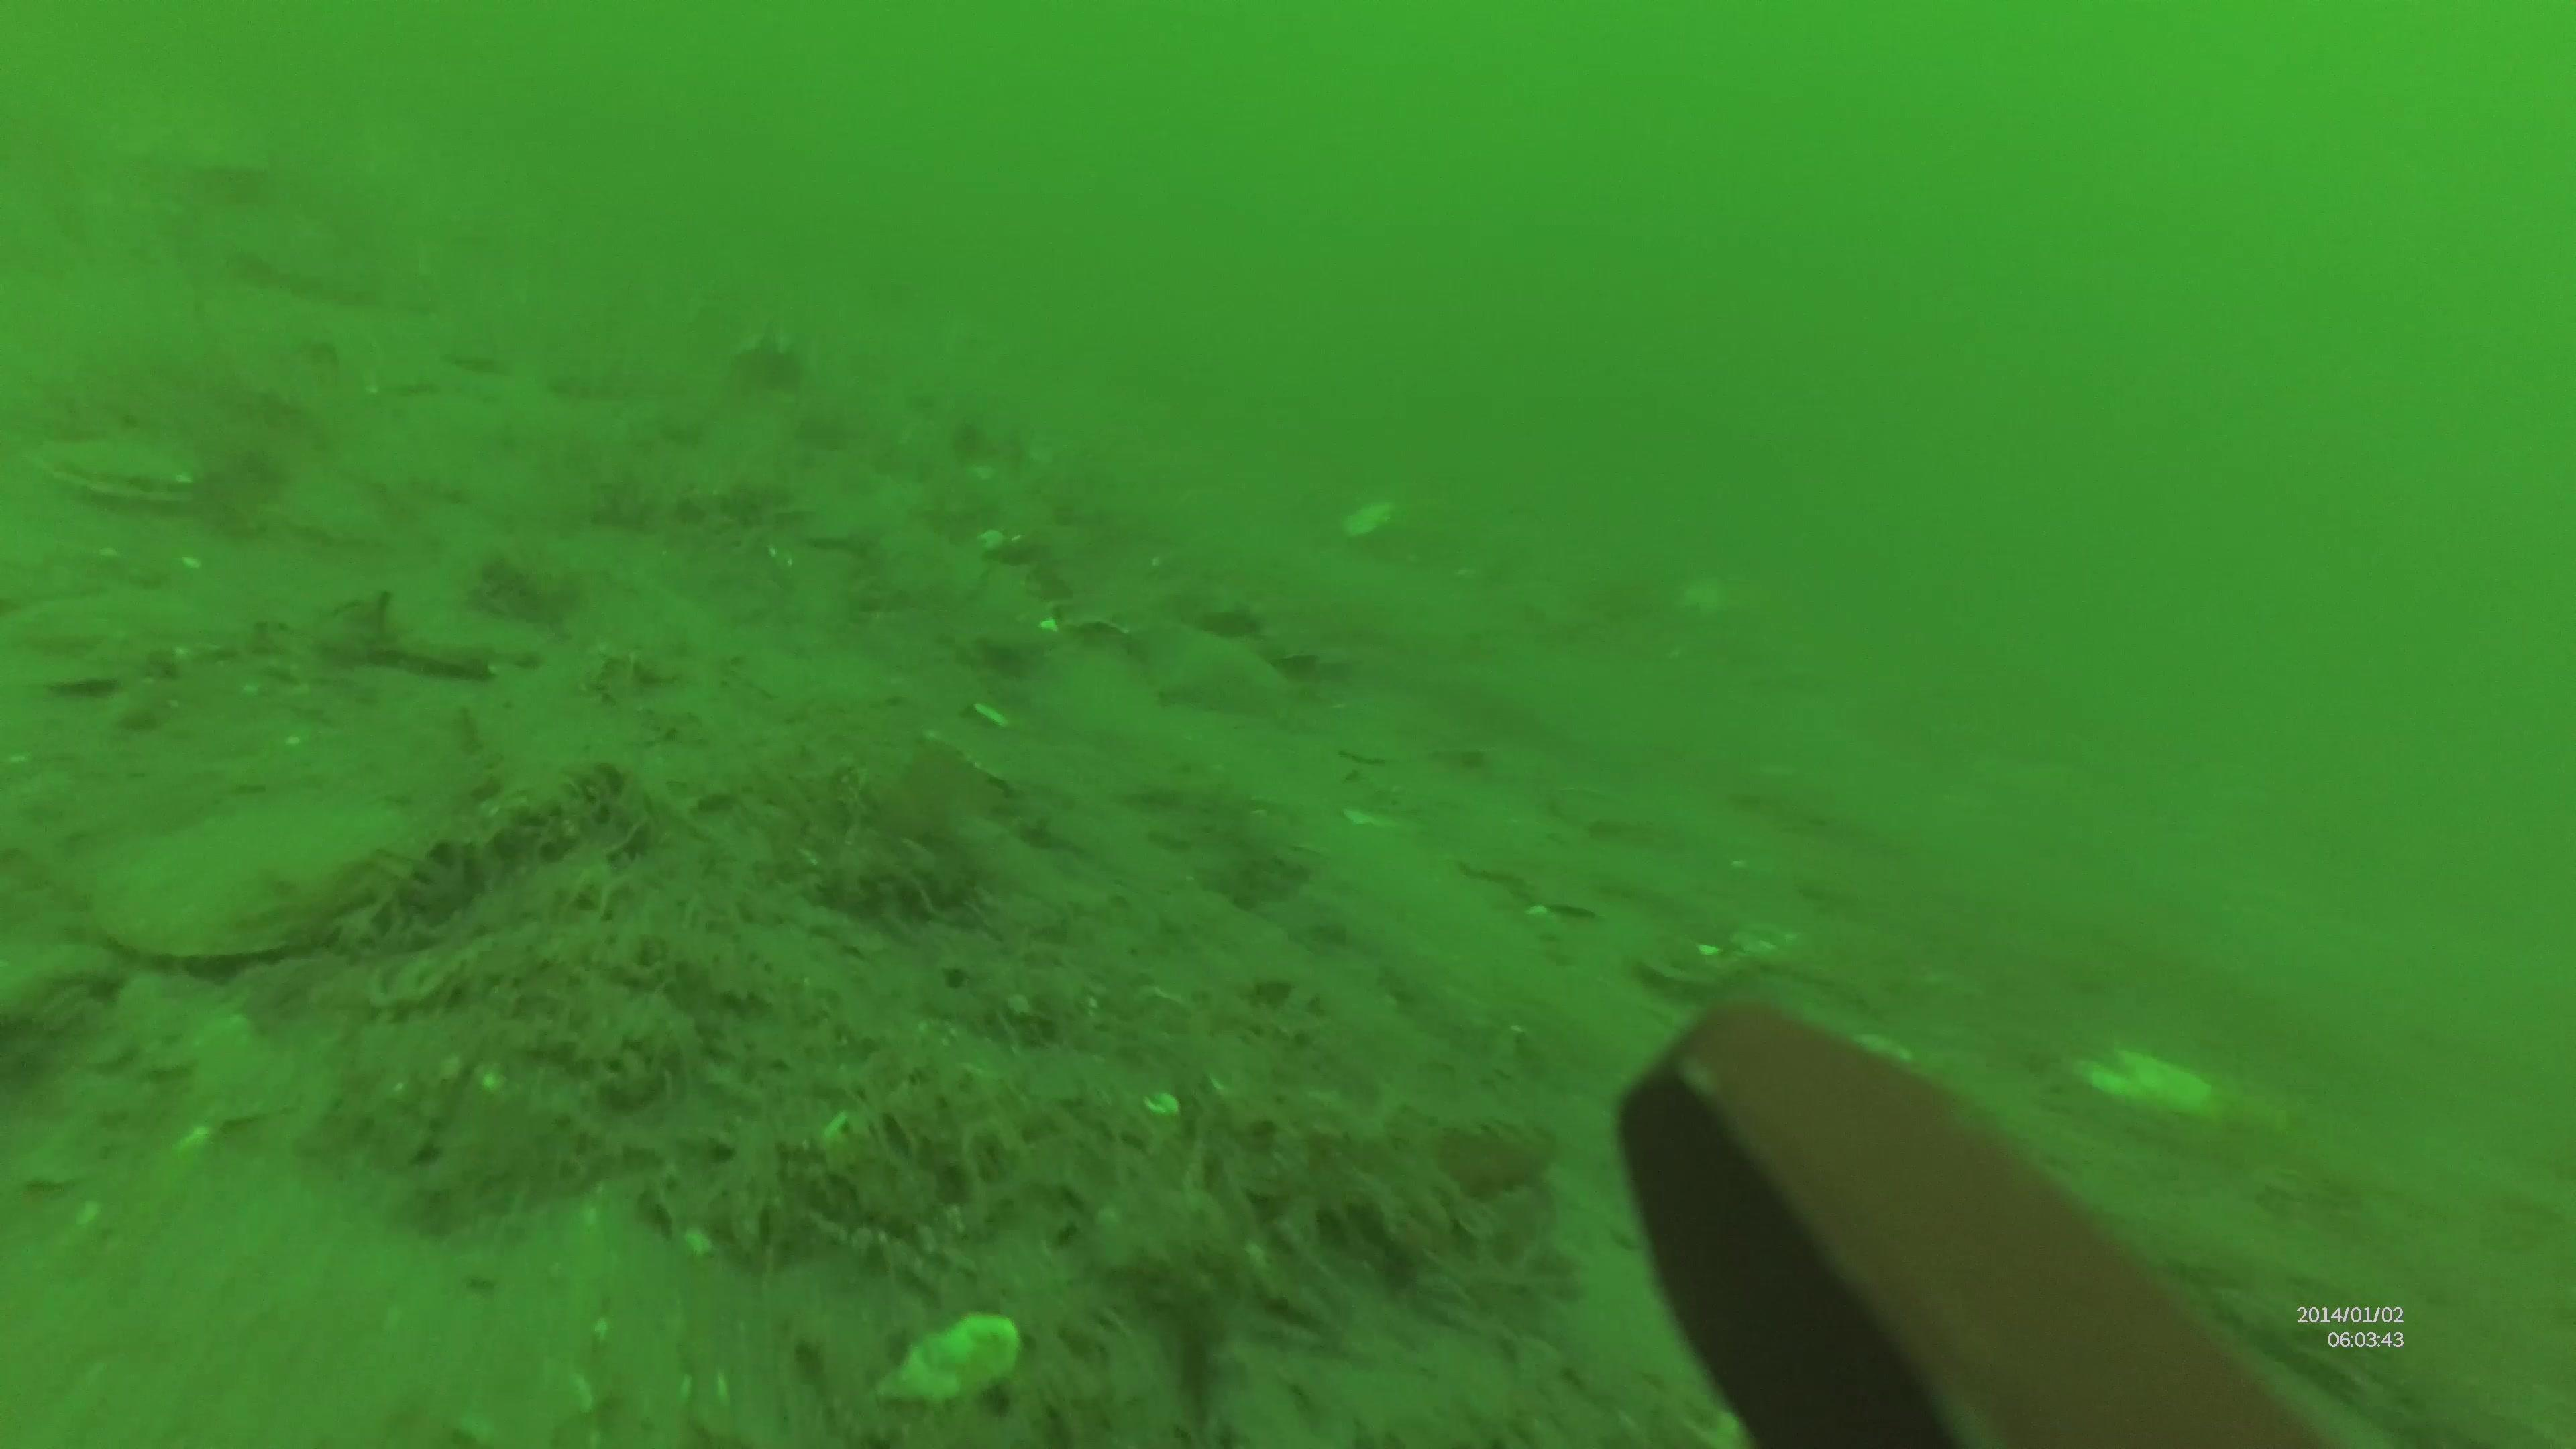scallop: (106, 786, 418, 970), (44, 433, 202, 511)
starfish: (1122, 609, 1316, 729)
